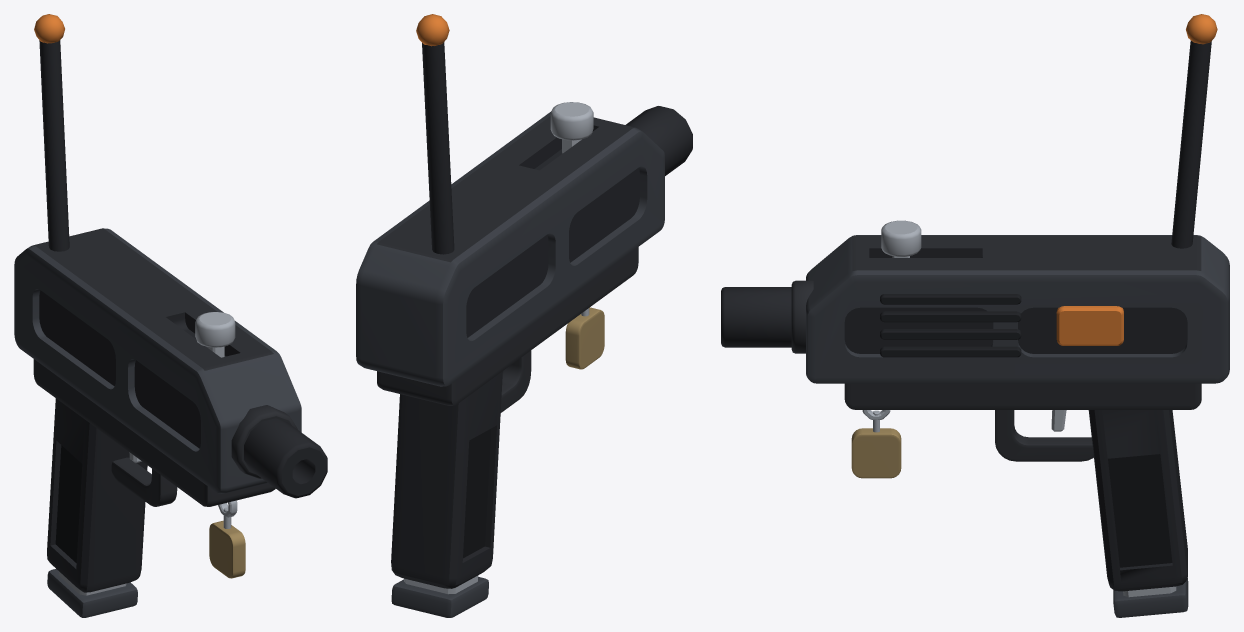
Rendered from w_akimbo@akimbo_walkie.glb.
3 views of the same model, side by side, from view 1: azimuth 30°, elevation 25°; view 2: azimuth 150°, elevation 25°; view 3: azimuth 270°, elevation 25° (orthographic). The views are drawn at different scales.
Visible parts, largest first — view 1: body_wzA__body__p3a3e45, grip_wzB__dark__p24262b, body_wzB__frame__p2a2c31, body_wzN__dark__p24262b, lower_wzB__frame__p2a2c31, barrel_wzB__dark__p24262b, aerial_wzN__dark__p24262b, grip_wzN__black__p16171b, mag_wzA__body__p3a3e45, guard_wzB__frame__p2a2c31, tagR_wzN__tagr__p9c8559, cocker_wzN__steel__pa3a9b2 (+2 smaller); view 2: body_wzA__body__p3a3e45, grip_wzB__dark__p24262b, body_wzB__frame__p2a2c31, body_wzN__dark__p24262b, lower_wzB__frame__p2a2c31, aerial_wzN__dark__p24262b, grip_wzN__black__p16171b, barrel_wzB__dark__p24262b, mag_wzA__body__p3a3e45, tagR_wzN__tagr__p9c8559, cocker_wzN__steel__pa3a9b2, guard_wzB__frame__p2a2c31 (+1 smaller); view 3: body_wzA__body__p3a3e45, body_wzB__frame__p2a2c31, body_wzN__dark__p24262b, lower_wzB__frame__p2a2c31, grip_wzB__dark__p24262b, grille_wzN__grille__p1d1f23, grip_wzN__black__p16171b, aerial_wzN__dark__p24262b, barrel_wzB__dark__p24262b, guard_wzB__frame__p2a2c31, talk_wzN__orange__pd67a32, tagR_wzN__tagr__p9c8559 (+4 smaller).
Part boxes in pixels (left/top/right/bottom): body_wzA__body__p3a3e45: left=14, top=228, right=301, bottom=493; grip_wzB__dark__p24262b: left=47, top=398, right=147, bottom=592; body_wzB__frame__p2a2c31: left=34, top=228, right=273, bottom=370; body_wzN__dark__p24262b: left=39, top=290, right=240, bottom=448; lower_wzB__frame__p2a2c31: left=33, top=359, right=275, bottom=506; barrel_wzB__dark__p24262b: left=244, top=418, right=327, bottom=498; aerial_wzN__dark__p24262b: left=39, top=40, right=69, bottom=251; grip_wzN__black__p16171b: left=55, top=445, right=82, bottom=562; mag_wzA__body__p3a3e45: left=47, top=569, right=137, bottom=617; guard_wzB__frame__p2a2c31: left=111, top=457, right=177, bottom=506; tagR_wzN__tagr__p9c8559: left=209, top=520, right=245, bottom=578; cocker_wzN__steel__pa3a9b2: left=195, top=312, right=235, bottom=357; body_wzA__body__p3a3e45: left=356, top=111, right=664, bottom=386; grip_wzB__dark__p24262b: left=391, top=371, right=502, bottom=588; body_wzB__frame__p2a2c31: left=377, top=116, right=634, bottom=262; body_wzN__dark__p24262b: left=466, top=125, right=639, bottom=337; lower_wzB__frame__p2a2c31: left=377, top=247, right=638, bottom=405; aerial_wzN__dark__p24262b: left=422, top=42, right=454, bottom=254; grip_wzN__black__p16171b: left=463, top=429, right=490, bottom=558; barrel_wzB__dark__p24262b: left=626, top=106, right=692, bottom=175; mag_wzA__body__p3a3e45: left=391, top=576, right=488, bottom=617; tagR_wzN__tagr__p9c8559: left=565, top=307, right=604, bottom=369; cocker_wzN__steel__pa3a9b2: left=550, top=102, right=593, bottom=153; guard_wzB__frame__p2a2c31: left=500, top=350, right=531, bottom=412; body_wzA__body__p3a3e45: left=806, top=235, right=1229, bottom=383; body_wzB__frame__p2a2c31: left=852, top=236, right=1201, bottom=270; body_wzN__dark__p24262b: left=844, top=248, right=1187, bottom=353; lower_wzB__frame__p2a2c31: left=844, top=383, right=1201, bottom=409; grip_wzB__dark__p24262b: left=1088, top=410, right=1187, bottom=591; grille_wzN__grille__p1d1f23: left=880, top=294, right=1021, bottom=357; grip_wzN__black__p16171b: left=1108, top=454, right=1172, bottom=567; aerial_wzN__dark__p24262b: left=1171, top=40, right=1211, bottom=248; barrel_wzB__dark__p24262b: left=721, top=287, right=791, bottom=347; guard_wzB__frame__p2a2c31: left=995, top=410, right=1093, bottom=461; talk_wzN__orange__pd67a32: left=1056, top=306, right=1123, bottom=345; tagR_wzN__tagr__p9c8559: left=851, top=428, right=901, bottom=478.
Bounding box in the file's own units: 0.0595 × 0.3629 × 0.288.
